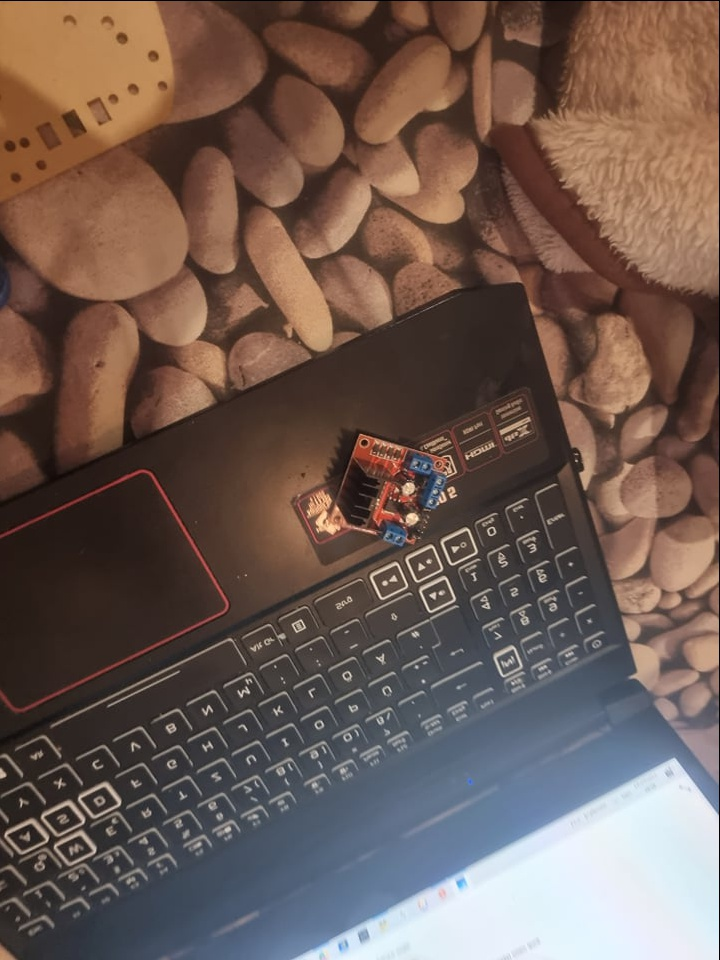MOTOR: (324, 429, 455, 549)
